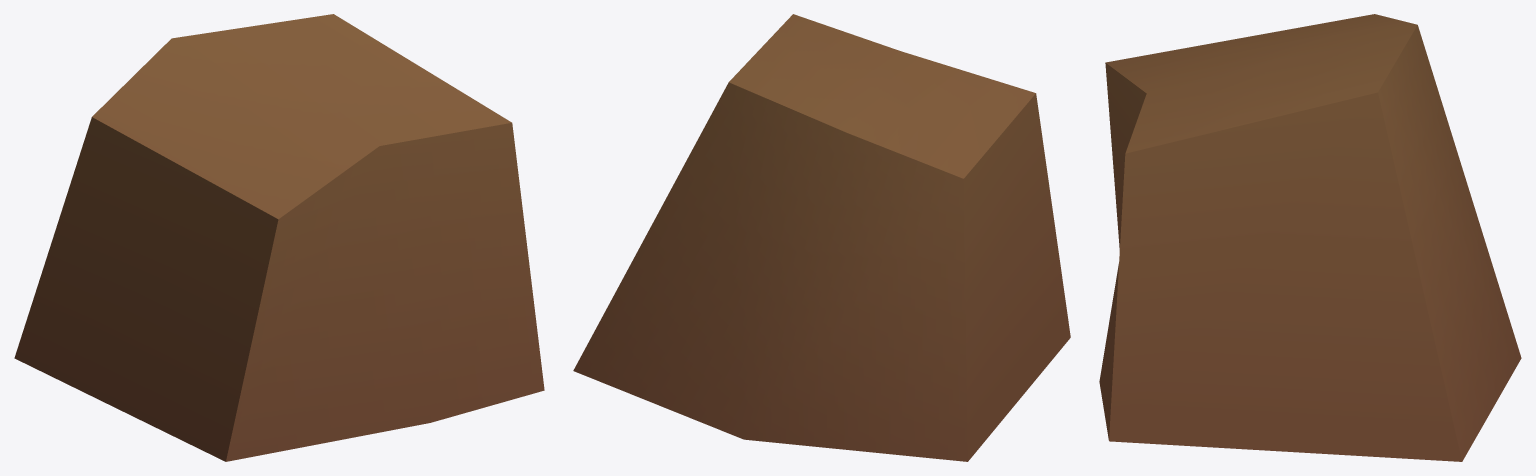
The model's file is Cliff002.glb.
The picture shows the model from 3 angles, left to right: view 1: azimuth 30°, elevation 25°; view 2: azimuth 150°, elevation 25°; view 3: azimuth 270°, elevation 25°; orthographic projection. The views are drawn at different scales.
Visible parts, largest first — view 1: Cliff002; view 2: Cliff002; view 3: Cliff002.
Boxes of the visible parts, left/top/right/bottom form: Cliff002: left=14, top=14, right=544, bottom=461; Cliff002: left=573, top=14, right=1070, bottom=461; Cliff002: left=1099, top=14, right=1521, bottom=461.
Bounding box in the file's own units: 632 × 448 × 554.
1 material, 1 textured.
